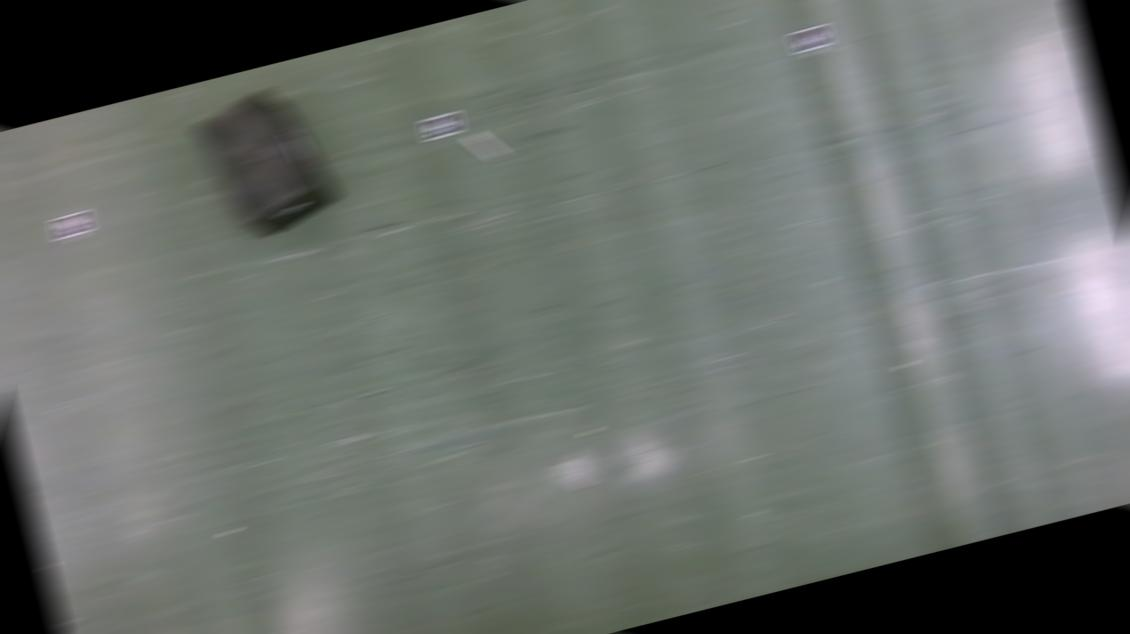probes: (468, 130, 506, 164)
rako: (186, 81, 344, 248)
